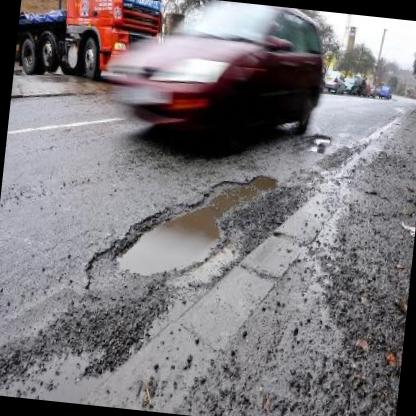pothole: (106, 154, 283, 290), (306, 129, 334, 153)
